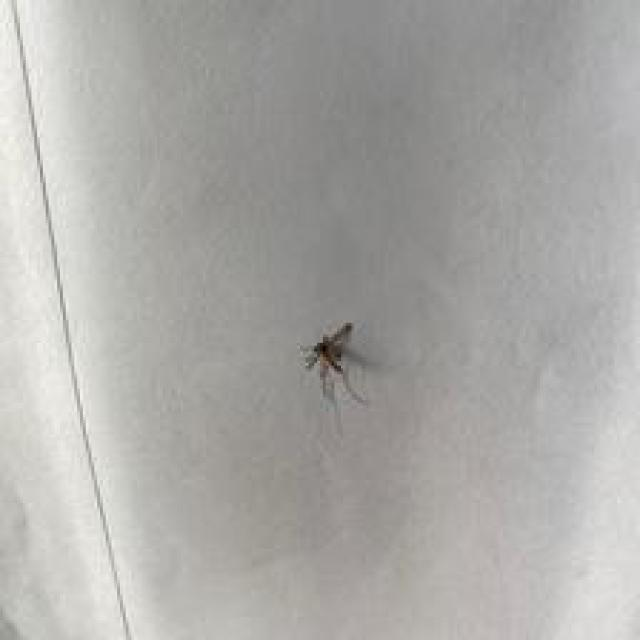Culex: (297, 320, 369, 409)
